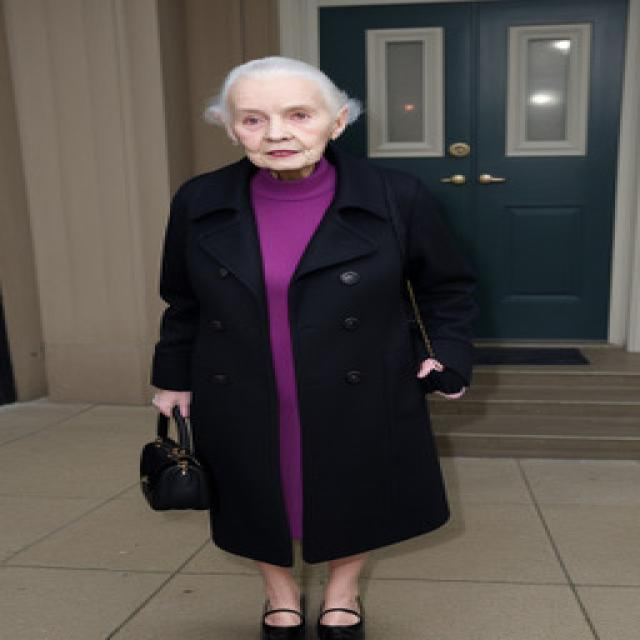Ai human 2: (116, 36, 505, 640)
